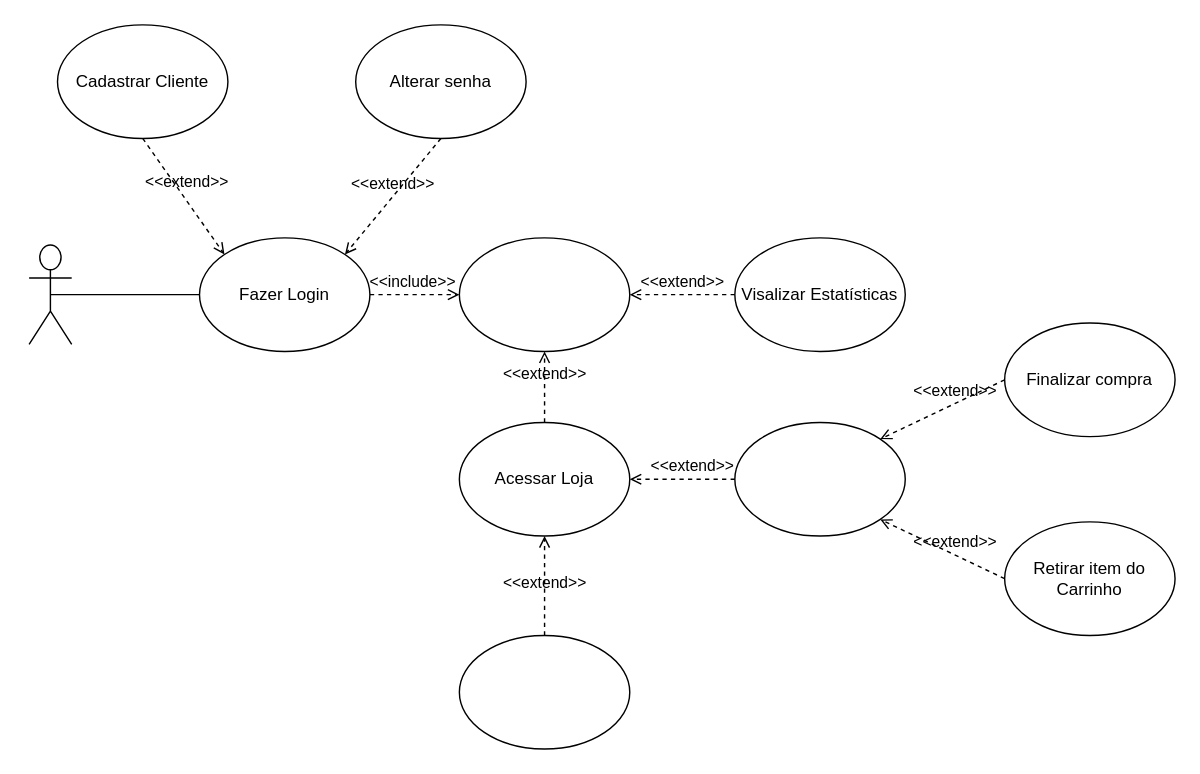
Some shapes in this 1200 by 774 pixel diagram are drawn without their labels. The shapes that lost their labels are listed below. From the top down, each one's centre as x and y in pixels, then its label:
At [50,294]: "Cliente".
At [544,293]: "Visualizar interface".
At [819,478]: "Acessar carrinho".
At [544,691]: "Colocar no carrinho".
